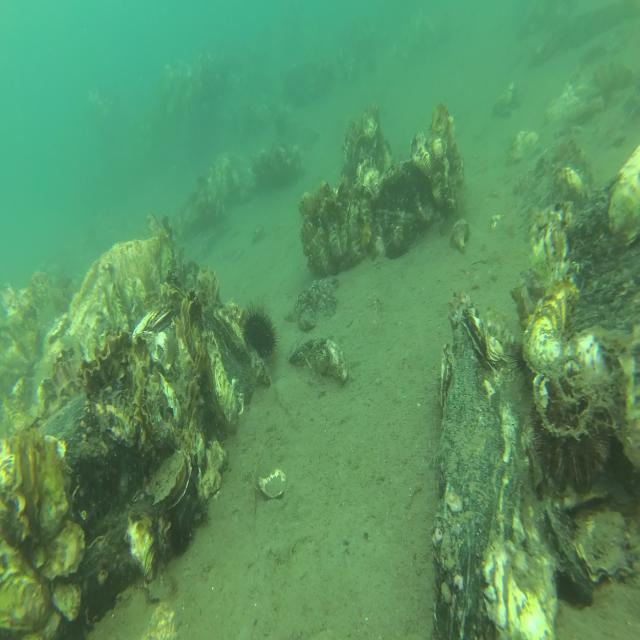echinus: (525, 394, 612, 488), (238, 303, 280, 363), (505, 341, 528, 376)
